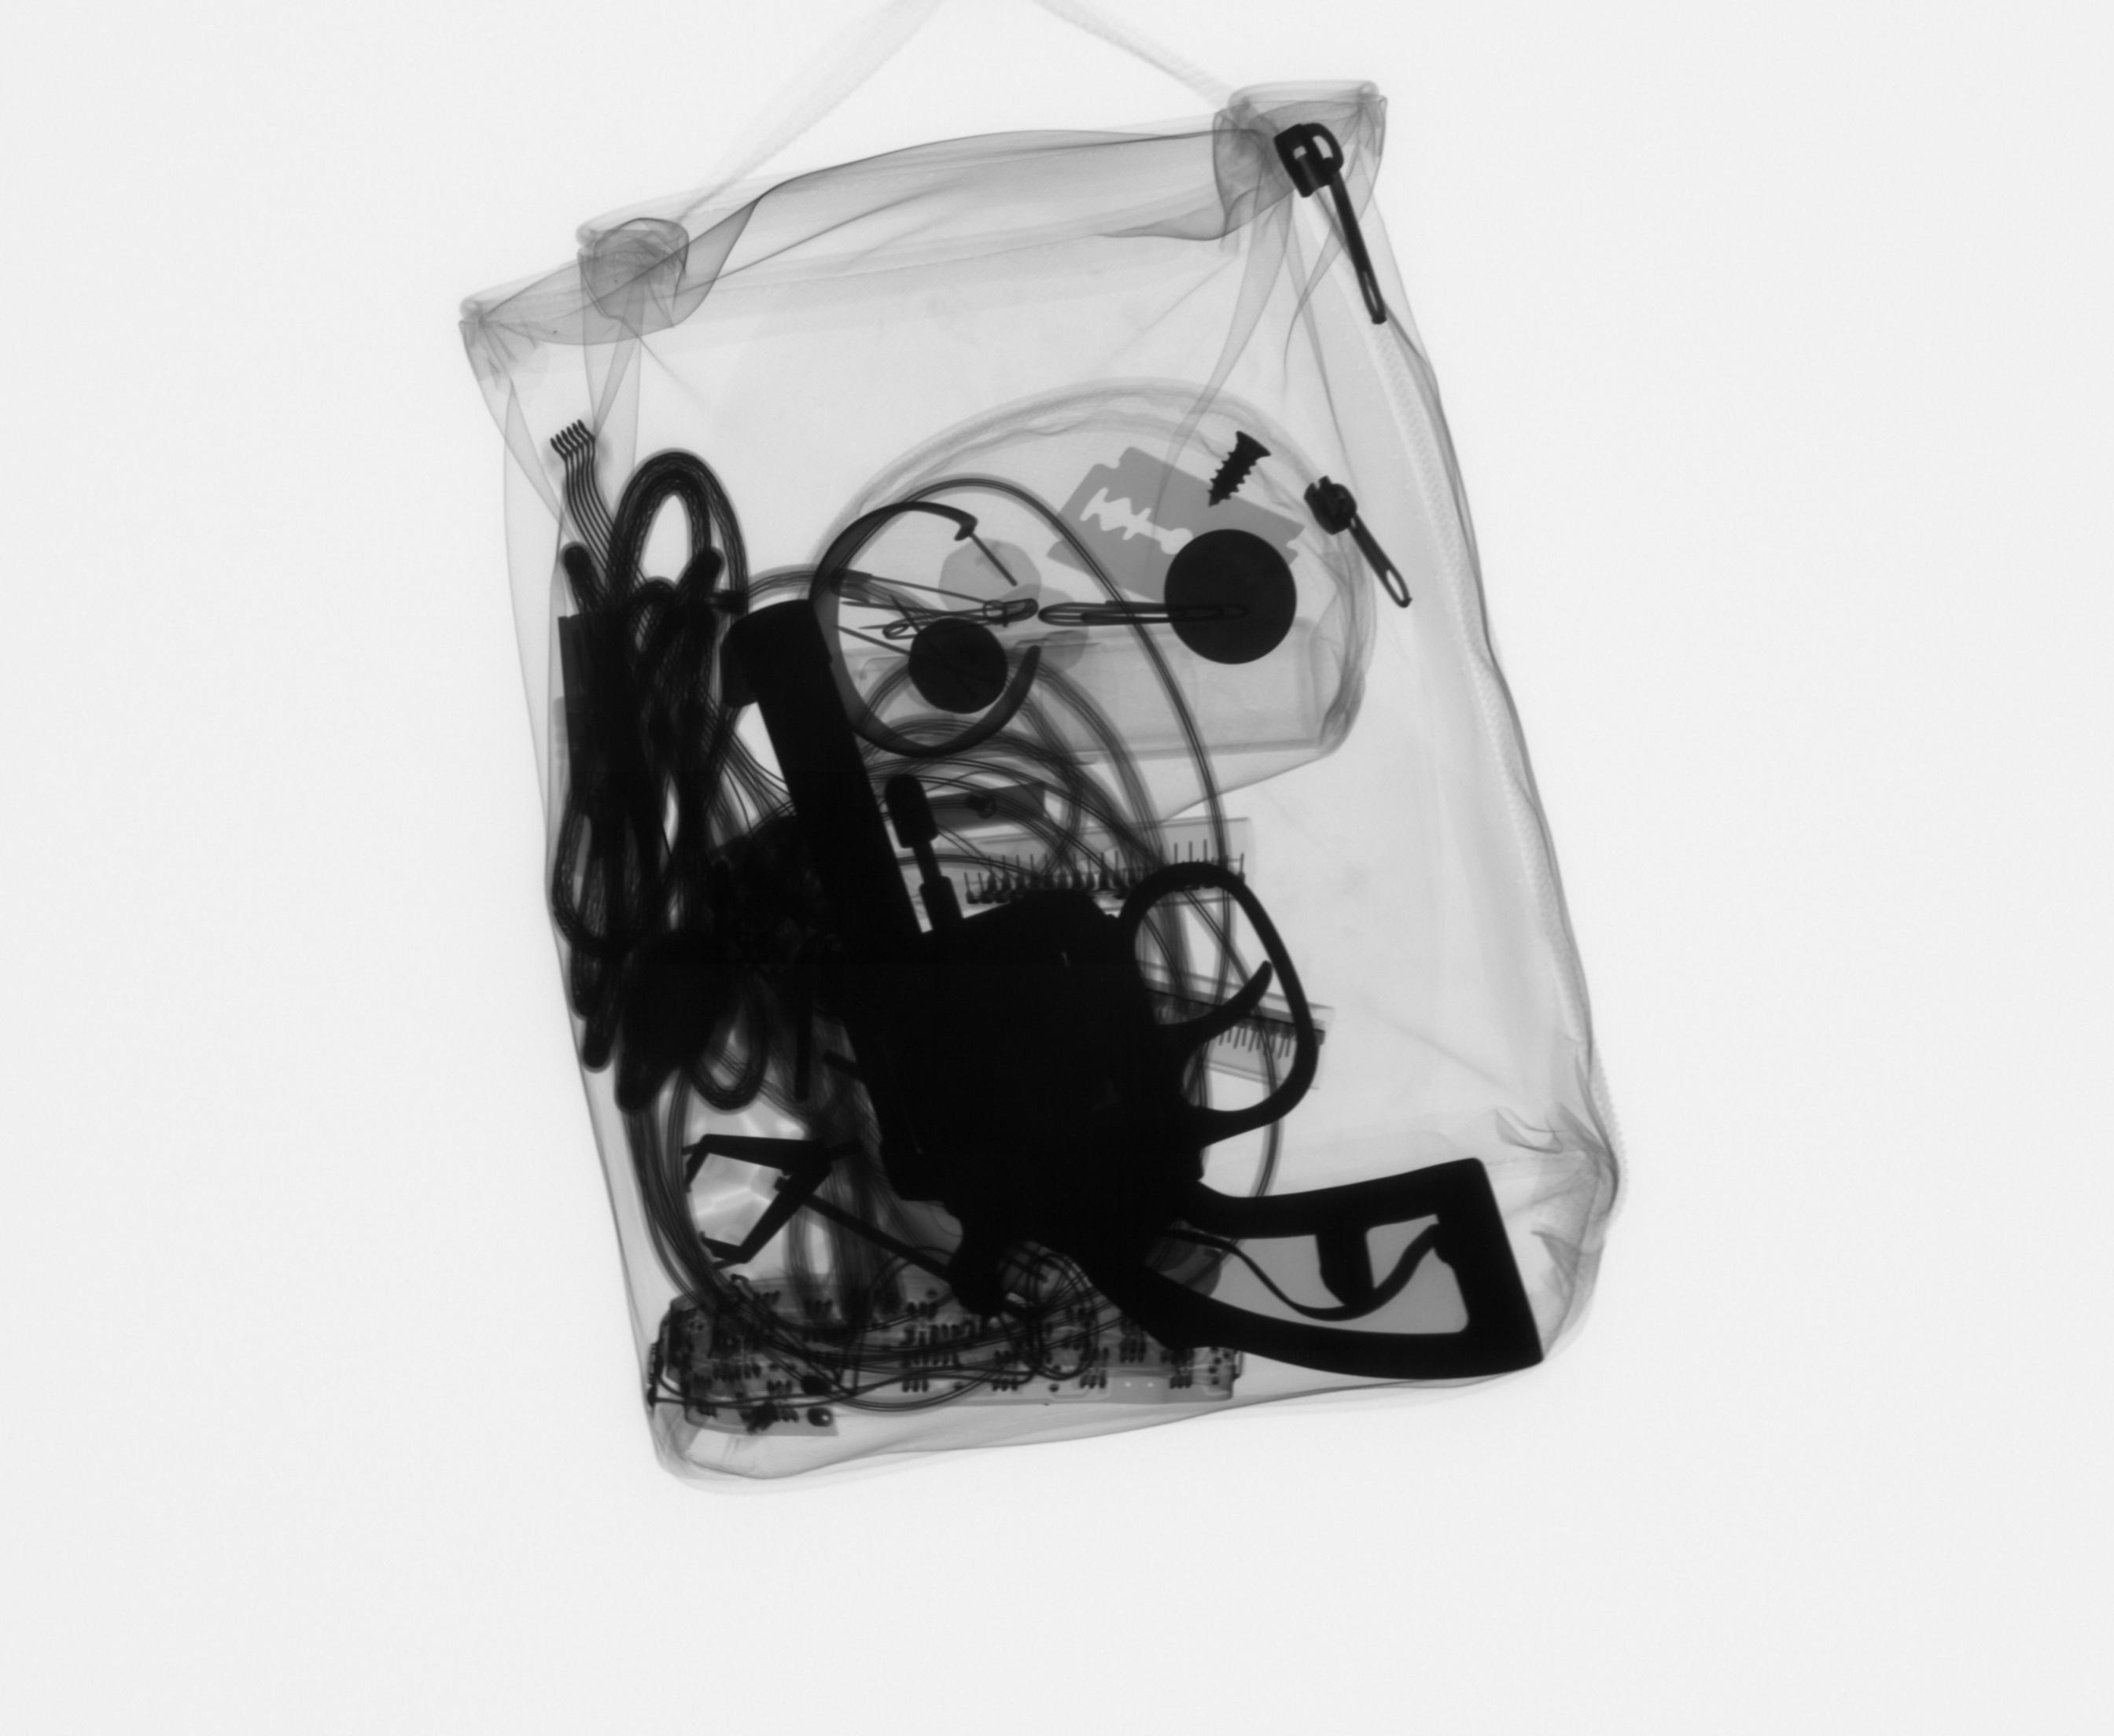Handgun: (716, 592, 1559, 1392)
RazorBlade: (1039, 441, 1312, 634)
